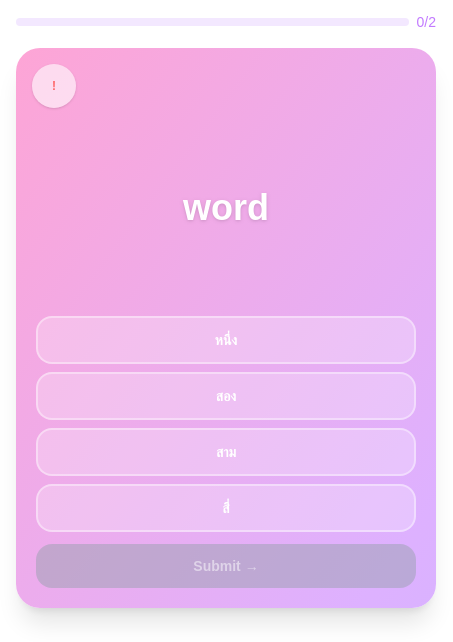
it: MultipleChoiceStack — progress › advances progress counter after swipe left
This screenshot has width=453, height=642.
Click the button "หนึ่ง" at (226, 340), box x1=36 y1=316 x2=416 y2=364
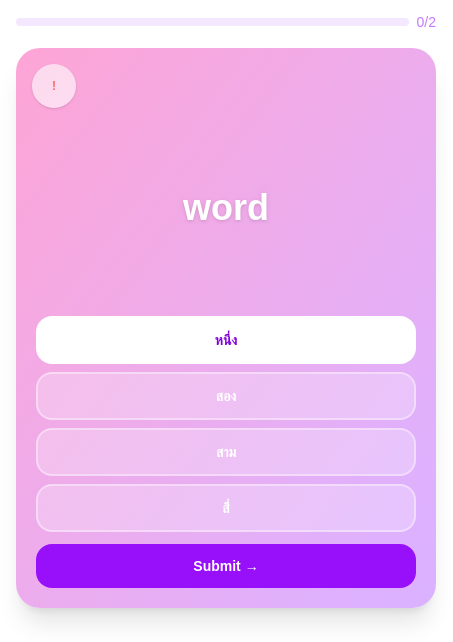
Click the button "Submit →" at (226, 566), box x1=36 y1=544 x2=416 y2=588
Wait 501 ms
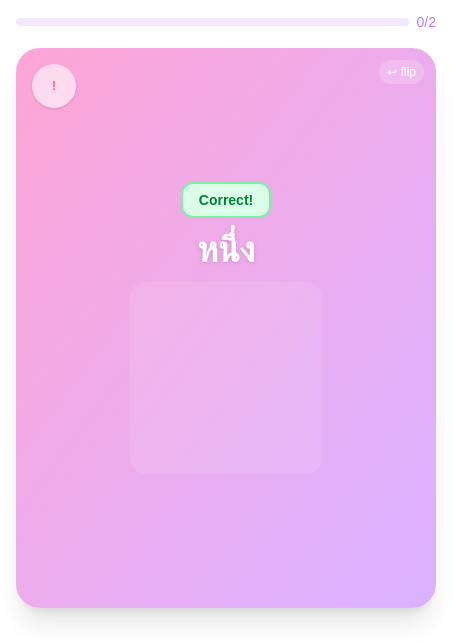
Press the mouse on the element with test id "mc-card-container" at (226, 328), box x1=16 y1=48 x2=436 y2=608
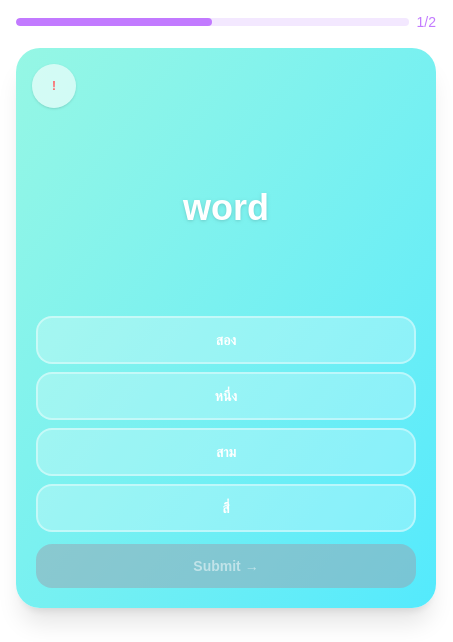
Check: the text "1/2" is shown, box x1=416 y1=12 x2=436 y2=32
